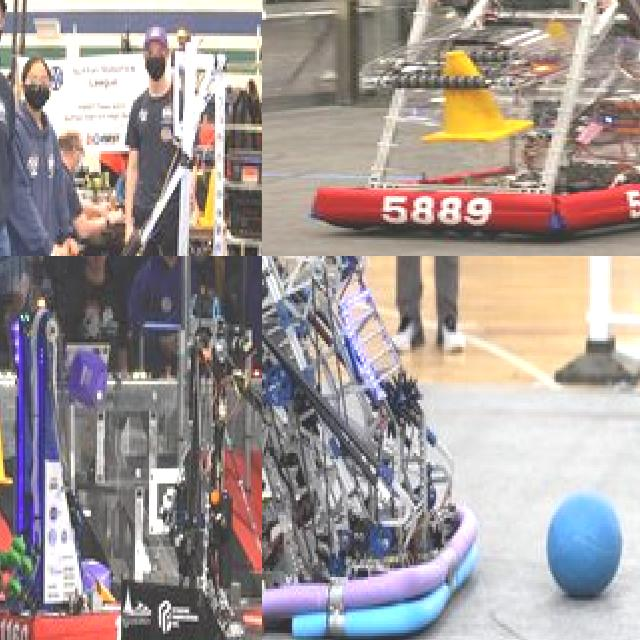FRC-Robots: (262, 256, 483, 633), (317, 0, 640, 256), (57, 9, 257, 256), (115, 368, 262, 640), (0, 305, 107, 640)
